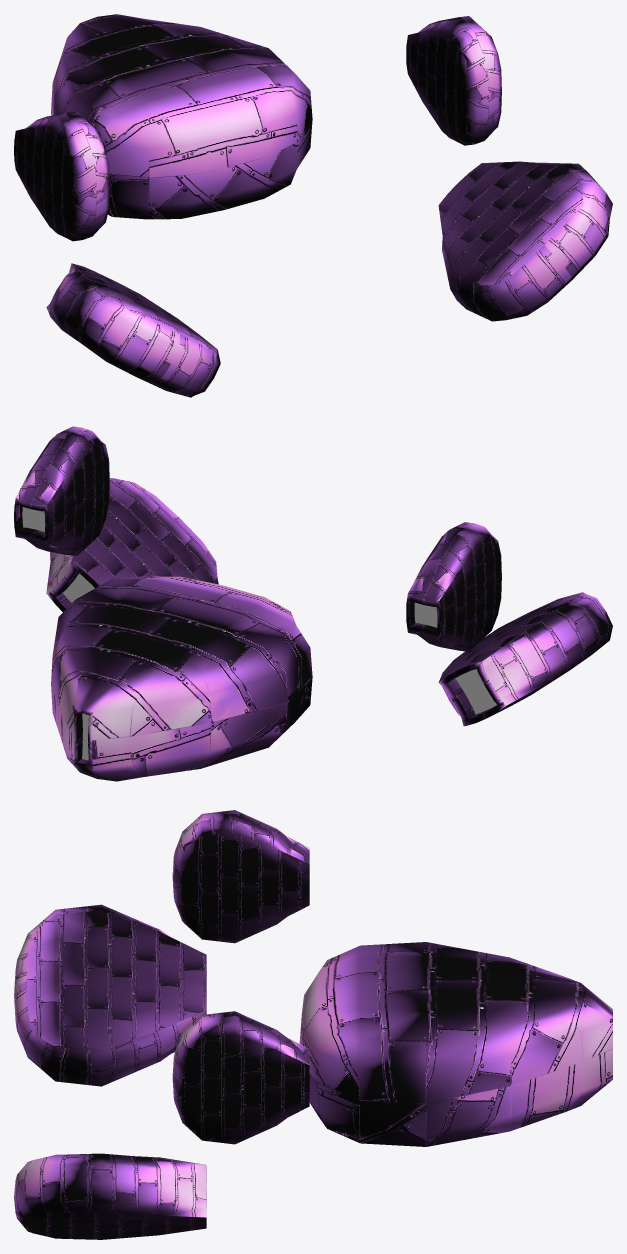
File: engine4NEW.fbx
3 views of the same model, one above another, from view 1: azimuth 30°, elevation 25°; view 2: azimuth 150°, elevation 25°; view 3: azimuth 270°, elevation 25° (orthographic). The views are drawn at different scales.
Visible parts, largest first — view 1: engine2.4NEW, engine4NEW, engine3.4NEW; view 2: engine2.4NEW, engine4NEW, engine3.4NEW, engine4NeonNEW; view 3: engine2.4NEW, engine4NEW, engine3.4NEW.
Part boxes in pixels (x1,y1,x2,y2): engine2.4NEW: (51, 14, 312, 219); engine4NEW: (46, 161, 612, 397); engine3.4NEW: (14, 16, 501, 241); engine2.4NEW: (51, 576, 312, 781); engine4NEW: (46, 478, 612, 726); engine3.4NEW: (14, 426, 501, 651); engine4NeonNEW: (22, 507, 496, 760); engine2.4NEW: (299, 942, 612, 1146); engine4NEW: (14, 904, 206, 1239); engine3.4NEW: (172, 810, 309, 1144).
Size of the model in its own units: 12.49 by 11.48 by 5.2.
